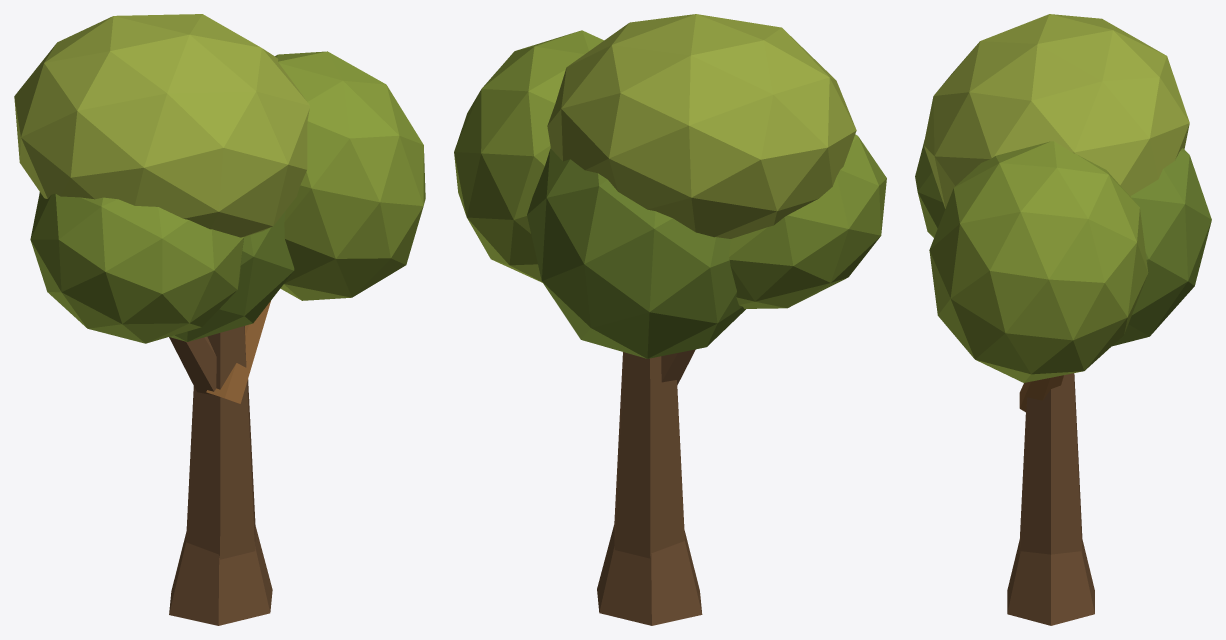
Rendered from tree-canopy-0.gltf.
3 views of the same model, side by side, from view 1: azimuth 30°, elevation 25°; view 2: azimuth 150°, elevation 25°; view 3: azimuth 270°, elevation 25° (orthographic). The views are drawn at different scales.
Parts seen in each view (by area): view 1: tree-canopy-0; view 2: tree-canopy-0; view 3: tree-canopy-0.
Boxes of the visible parts, box(x1,y1,x2,y2) form: tree-canopy-0: box(14, 14, 425, 625); tree-canopy-0: box(454, 14, 886, 625); tree-canopy-0: box(915, 14, 1211, 625).
Size of the model in its own units: 1.1 by 1.64 by 0.8136.
